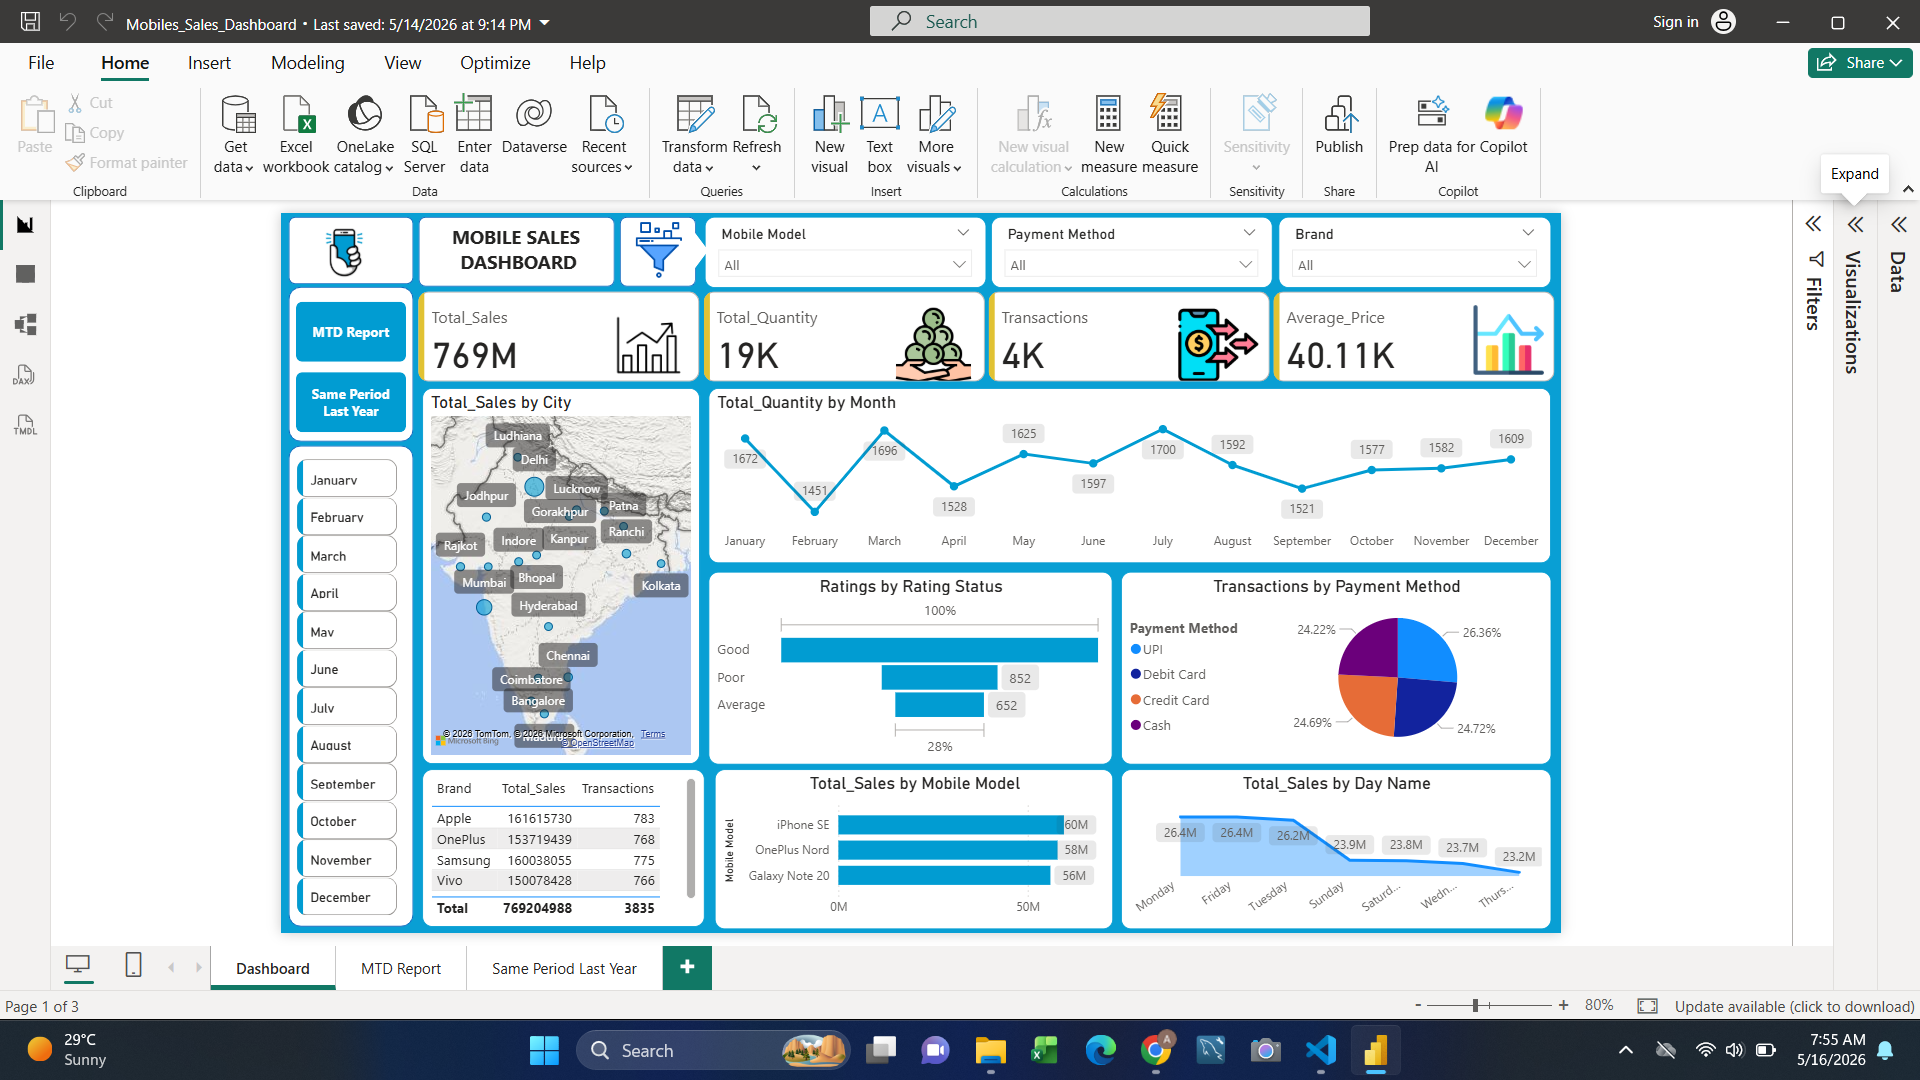

This screenshot's page, from the dashboard's own definition file:
{"tool":"powerbi","page":{"name":"Dashboard","canvas":[1280,720],"ordinal":0},"visuals":[{"type":"shape","box":[7.5,3.8,125,67.5],"z":0},{"type":"image","box":[23.8,3.8,78.8,71.2],"z":1000},{"type":"shape","box":[7.5,73.8,125,155],"z":2000},{"type":"shape","box":[7.5,232.5,125,481.2],"z":3000},{"type":"advancedSlicerVisual","fields":{"Values":["Custom_Calendar.Date.Variation.Date Hierarchy.Month"]},"box":[11.2,241.2,110,472.5],"z":4000},{"type":"cardVisual","fields":{"Data":["Sales_Data.Total_Sales","Sales_Data.Total_Quantity","Sales_Data.Transactions","Sales_Data.Average_Price"]},"box":[132.5,73.8,1147.5,100],"z":5000},{"type":"slicer","fields":{"Values":["Sales_Data.Mobile Model"]},"box":[423.8,3.8,281.2,71.2],"z":6000},{"type":"slicer","fields":{"Values":["Sales_Data.Payment Method"]},"box":[710,3.8,281.2,71.2],"z":7000},{"type":"slicer","fields":{"Values":["Sales_Data.Brand"]},"box":[997.5,3.8,272.5,71.2],"z":8000},{"type":"shape","box":[338.8,3.8,76.2,70],"z":9000},{"type":"image","box":[337.5,3.8,81.2,66.2],"z":10000},{"type":"shape","box":[397.5,17.5,30,40],"z":11000},{"type":"shape","box":[137.5,3.8,196.2,70],"z":12000},{"type":"textbox","box":[156.2,6.2,162.5,63.8],"z":13000},{"type":"map","fields":{"Category":["Sales_Data.City"],"Size":["Sales_Data.Total_Sales"]},"box":[141.2,175,277.5,376.2],"z":14000},{"type":"lineChart","fields":{"Y":["Sales_Data.Total_Quantity"],"Category":["Custom_Calendar.Date.Variation.Date Hierarchy.Month"]},"box":[427.5,175,842.5,175],"z":15000},{"type":"funnel","title":"Ratings by Rating Status","fields":{"Y":["CountNonNull(Sales_Data.Customer Ratings)"],"Category":["Sales_Data.Rating Status"]},"box":[427.5,358.8,403.8,192.5],"z":16000},{"type":"pieChart","fields":{"Y":["Sales_Data.Transactions"],"Category":["Sales_Data.Payment Method"]},"box":[840,358.8,430,192.5],"z":17000},{"type":"clusteredBarChart","fields":{"Y":["Sales_Data.Total_Sales"],"Category":["Sales_Data.Mobile Model"]},"box":[433.8,556.2,398.8,160],"z":18000},{"type":"areaChart","fields":{"Y":["Sales_Data.Total_Sales"],"Category":["Custom_Calendar.Day Name"]},"box":[840,556.2,430,160],"z":19000},{"type":"tableEx","fields":{"Values":["Sales_Data.Brand","Sales_Data.Total_Sales","Sales_Data.Transactions"]},"box":[141.2,556.2,282.5,157.5],"z":20000},{"type":"pageNavigator","box":[15,88.8,110,130],"z":21000}]}

Visuals, with their boxes on the page's 1280x720 design canvas (x1, y1, x2, y2). These are canvas units, not pixel positions in the 1920x1080 screenshot, which may show the page scaled, cropped or inside an application window:
shape: 8, 4, 132, 71
image: 24, 4, 103, 75
shape: 8, 74, 132, 229
shape: 8, 232, 132, 714
advancedSlicerVisual - Custom_Calendar.Date.Variation.Date Hierarchy.Month: 11, 241, 121, 714
cardVisual - Sales_Data.Total_Sales x Sales_Data.Total_Quantity: 132, 74, 1280, 174
slicer - Sales_Data.Mobile Model: 424, 4, 705, 75
slicer - Sales_Data.Payment Method: 710, 4, 991, 75
slicer - Sales_Data.Brand: 998, 4, 1270, 75
shape: 339, 4, 415, 74
image: 338, 4, 419, 70
shape: 398, 18, 428, 58
shape: 138, 4, 334, 74
textbox: 156, 6, 319, 70
map - Sales_Data.City x Sales_Data.Total_Sales: 141, 175, 419, 551
lineChart - Sales_Data.Total_Quantity x Custom_Calendar.Date.Variation.Date Hierarchy.Month: 428, 175, 1270, 350
"Ratings by Rating Status" funnel: 428, 359, 831, 551
pieChart - Sales_Data.Transactions x Sales_Data.Payment Method: 840, 359, 1270, 551
clusteredBarChart - Sales_Data.Total_Sales x Sales_Data.Mobile Model: 434, 556, 833, 716
areaChart - Sales_Data.Total_Sales x Custom_Calendar.Day Name: 840, 556, 1270, 716
tableEx - Sales_Data.Brand x Sales_Data.Total_Sales: 141, 556, 424, 714
pageNavigator: 15, 89, 125, 219
